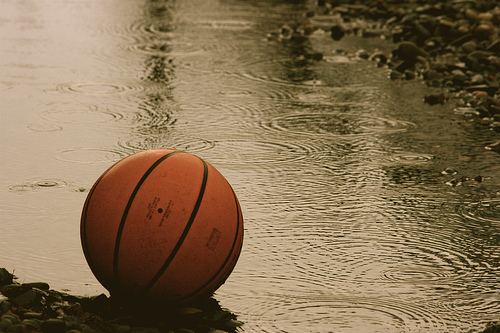basketball: (82, 151, 245, 298)
